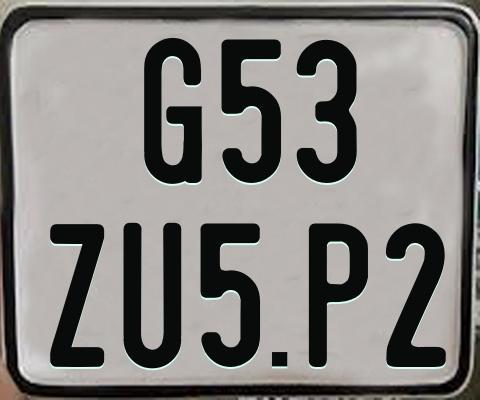2: (386, 220, 449, 366)
3: (294, 39, 360, 188)
5: (197, 221, 262, 368), (220, 38, 283, 187)
G: (141, 37, 200, 185)
P: (306, 223, 368, 373)
U: (121, 221, 181, 372)
Z: (50, 221, 109, 366)
